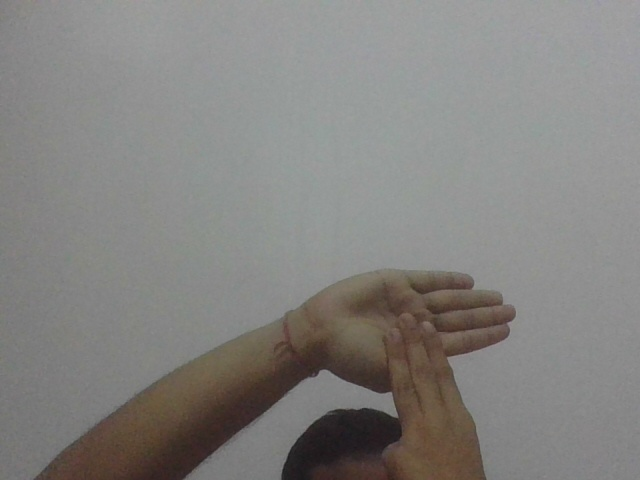M: (311, 263, 522, 411)
